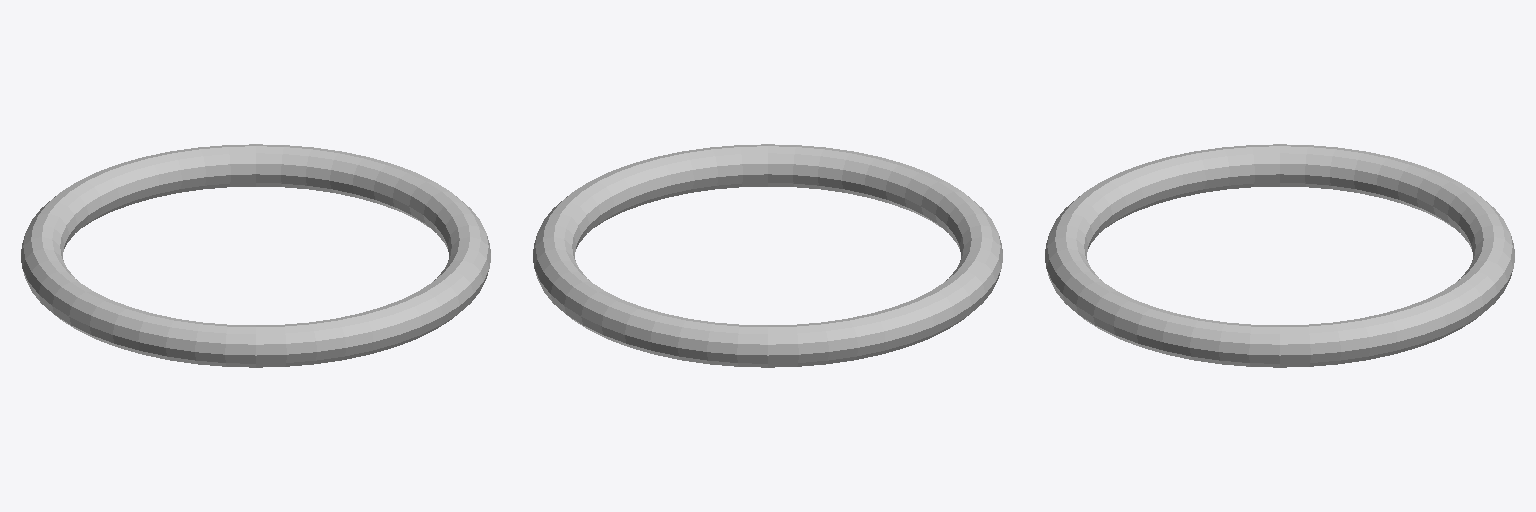
The model's file is Enchanting_Shrine_Ring.obj.
3 renders of one model, left to right at view 1: azimuth 30°, elevation 25°; view 2: azimuth 150°, elevation 25°; view 3: azimuth 270°, elevation 25°, orthographic.
Parts seen in each view (by area): view 1: Torus; view 2: Torus; view 3: Torus.
Part boxes in pixels (left/top/right/bottom): Torus: left=21, top=144, right=490, bottom=367; Torus: left=533, top=144, right=1002, bottom=367; Torus: left=1045, top=144, right=1514, bottom=367.
Size of the model in its own units: 2.22 by 0.2 by 2.22.